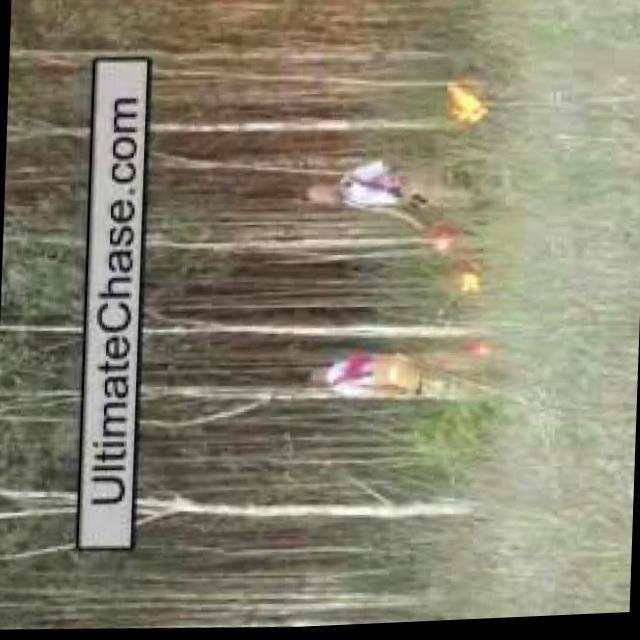Fire: (450, 81, 490, 131), (430, 232, 460, 268), (457, 273, 486, 301), (472, 346, 495, 362)
